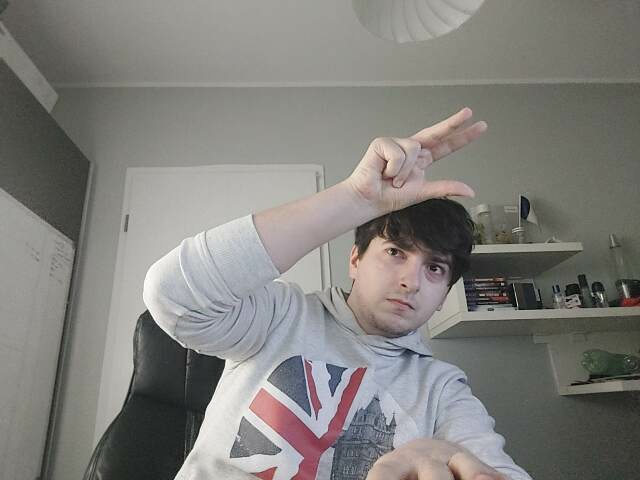no: (358, 107, 488, 198)
